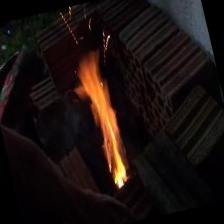fire: (60, 38, 156, 197)
